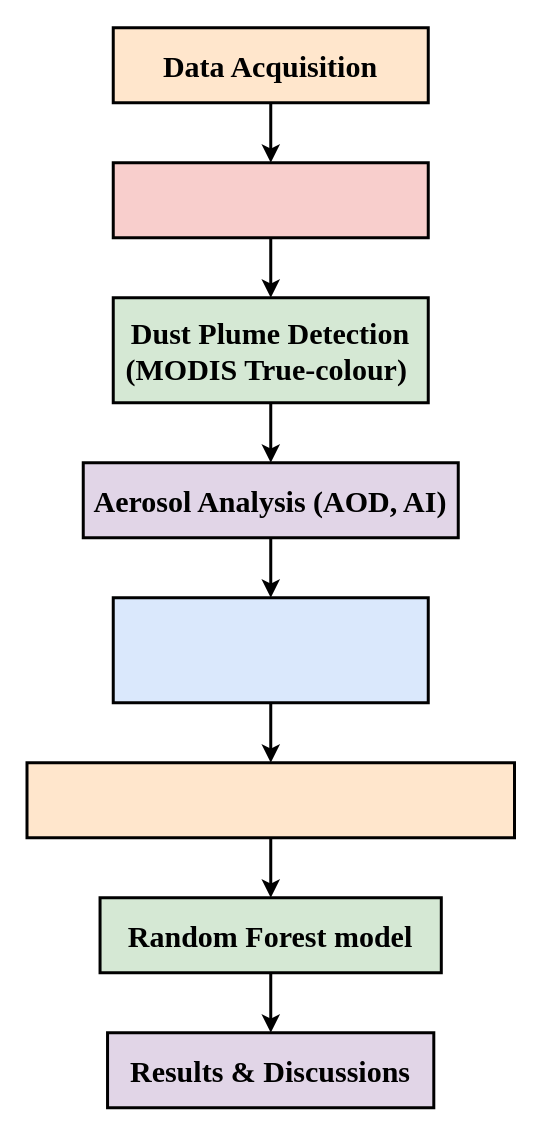
The diagram is 542 pixels wide and 1134 high, and some of its shapes have lost their labels. The centre of each missing label's shape, as x and y in pixels:
Meteorological analysis (ERA-5): [270,650]
NOAA-HYSPLIT Back Trajectory: [270,799]
Pre-processing: [270,199]
